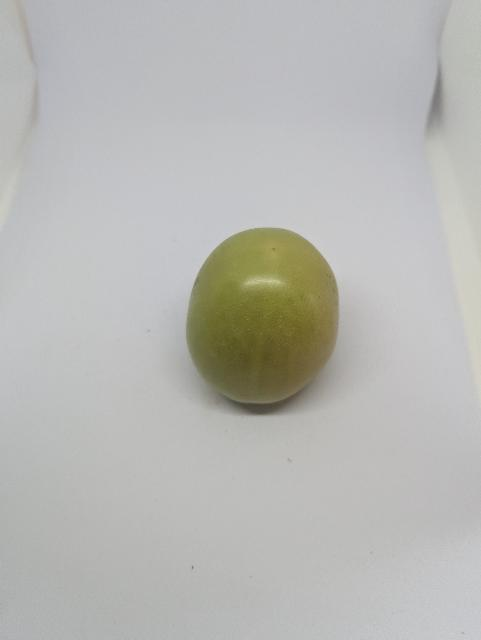green: (174, 218, 356, 417)
